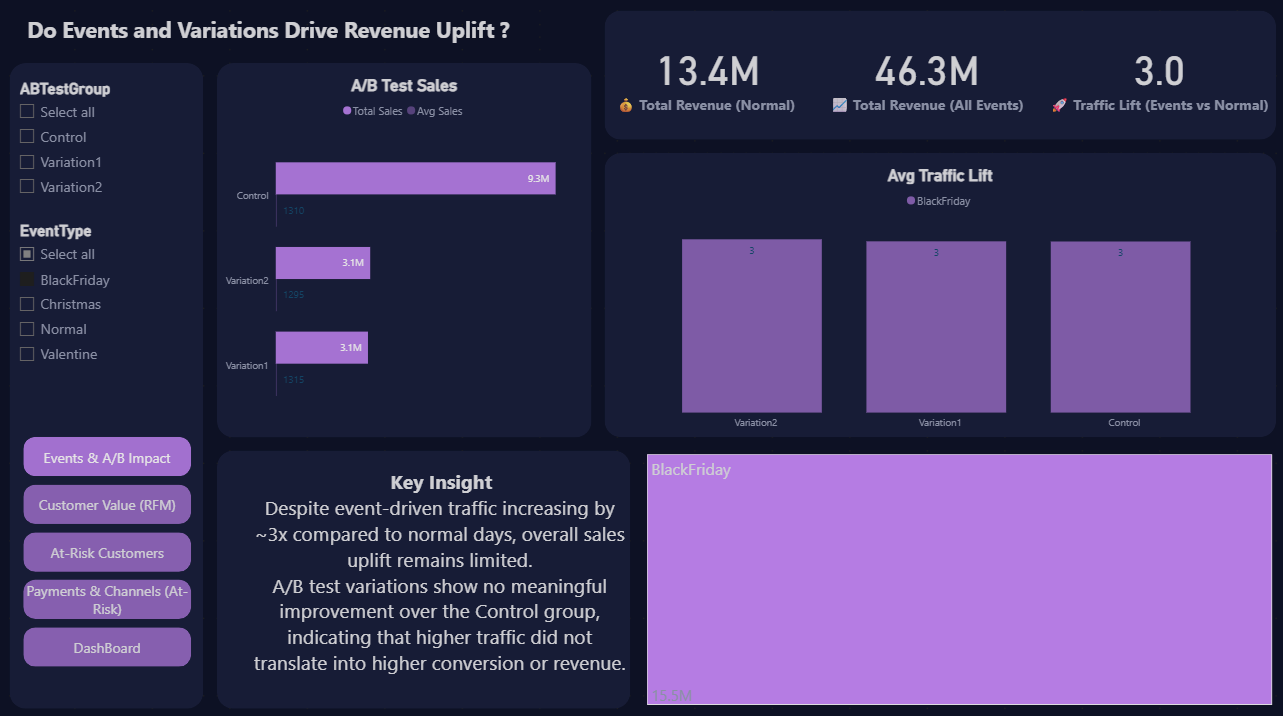

What the dashboard file says about the page in this screenshot:
{"tool":"powerbi","page":{"name":"Events & A/B Impact","canvas":[1600,900],"ordinal":0},"visuals":[{"type":"shape","box":[272,560,512,320],"z":0},{"type":"shape","box":[752,192,832,352],"z":1000},{"type":"shape","box":[752,16,832,160],"z":2000},{"type":"shape","box":[16,80,240,800],"z":3000},{"type":"shape","box":[272,80,464,464],"z":4000},{"type":"treemap","title":"Total Sales ","fields":{"Values":["Sum(transactions.SaleAmountEUR)"],"Group":["transactions.EventType","transactions.ABTestGroup"]},"box":[800,560,784,320],"z":5000},{"type":"clusteredBarChart","title":"A/B Test Sales","fields":{"Category":["transactions.ABTestGroup"],"Y":["Sum(transactions.SaleAmountEUR)","Avg(transactions.SaleAmountEUR)"]},"box":[272,96,464,448],"z":6000},{"type":"clusteredColumnChart","title":"Avg Traffic Lift","fields":{"Category":["transactions.ABTestGroup"],"Y":["Avg(transactions.TrafficMultiplier)"],"Series":["transactions.EventType"]},"box":[752,208,832,336],"z":7000},{"type":"card","fields":{"Values":["Measure Table (2).TrafficEventToNormal"]},"box":[1296,16,288,160],"z":8000},{"type":"slicer","fields":{"Values":["transactions.ABTestGroup"]},"box":[16,96,240,160],"z":10000},{"type":"slicer","fields":{"Values":["transactions.EventType"]},"box":[16,272,240,208],"z":11000},{"type":"card","fields":{"Values":["Measure Table.Total Sales (Normal)"]},"box":[752,16,256,160],"z":12000},{"type":"card","fields":{"Values":["Measure Table.Total Sales (Events)"]},"box":[1008,16,288,160],"z":13000},{"type":"textbox","box":[32,16,672,64],"z":14000},{"type":"textbox","box":[272,560,512,320],"z":15000},{"type":"pageNavigator","box":[32,544,208,288],"z":15005}]}

Visuals, with their boxes in screenshot pixels (x1, y1, x2, y2), scaled from the page's 1600x900 canvas onto the 1283x716 screenshot:
shape: BBox(218, 446, 629, 700)
shape: BBox(603, 153, 1270, 433)
shape: BBox(603, 13, 1270, 140)
shape: BBox(13, 64, 205, 700)
shape: BBox(218, 64, 590, 433)
"Total Sales " treemap: BBox(642, 446, 1270, 700)
"A/B Test Sales" clusteredBarChart: BBox(218, 76, 590, 433)
"Avg Traffic Lift" clusteredColumnChart: BBox(603, 165, 1270, 433)
card - Measure Table (2).TrafficEventToNormal: BBox(1039, 13, 1270, 140)
slicer - transactions.ABTestGroup: BBox(13, 76, 205, 204)
slicer - transactions.EventType: BBox(13, 216, 205, 382)
card - Measure Table.Total Sales (Normal): BBox(603, 13, 808, 140)
card - Measure Table.Total Sales (Events): BBox(808, 13, 1039, 140)
textbox: BBox(26, 13, 565, 64)
textbox: BBox(218, 446, 629, 700)
pageNavigator: BBox(26, 433, 192, 662)
